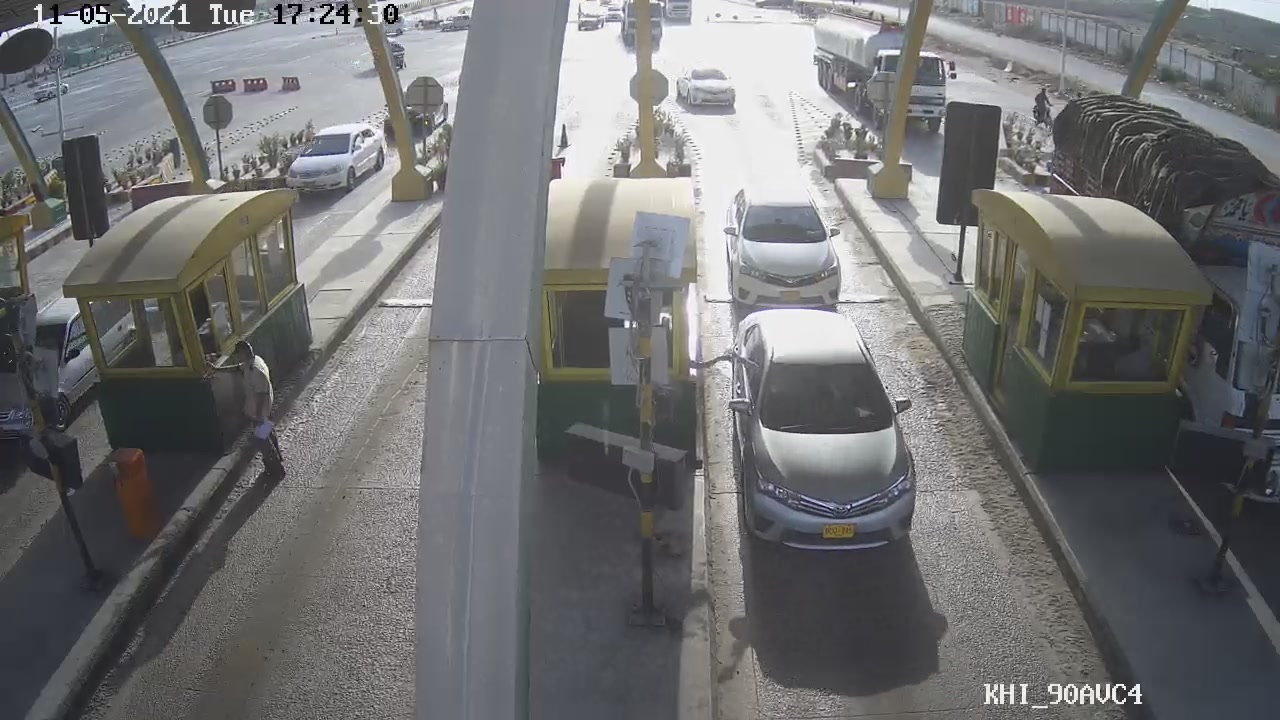F1: (722, 303, 935, 562)
